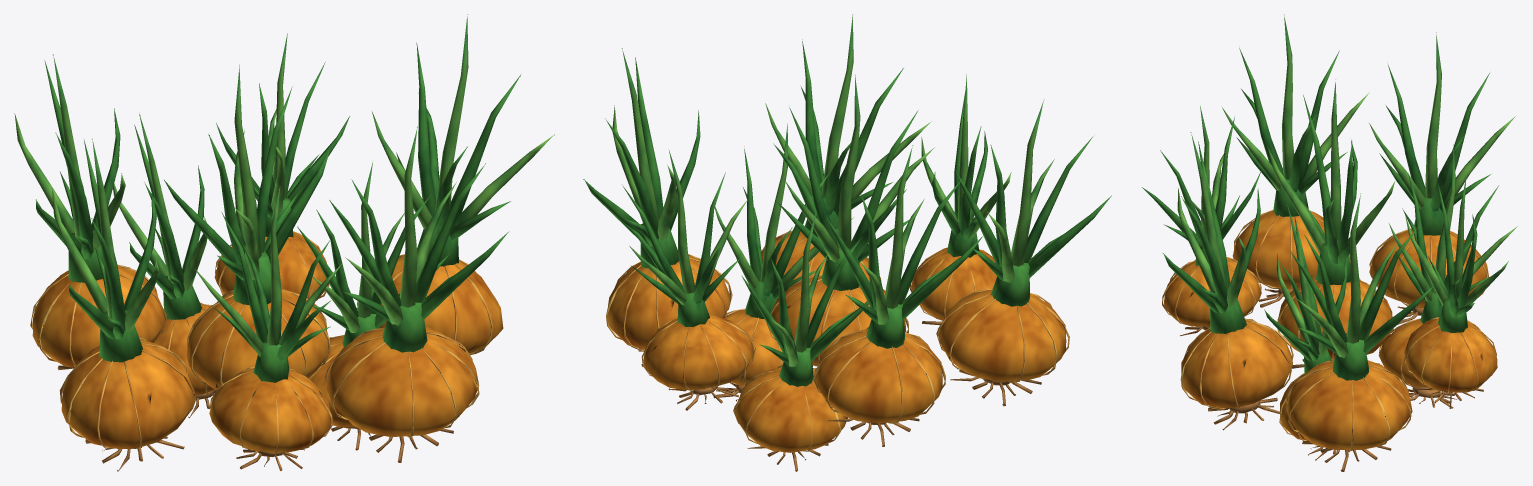
The model's file is onion_stage_2.glb.
3 views of the same model, side by side, from view 1: azimuth 30°, elevation 25°; view 2: azimuth 150°, elevation 25°; view 3: azimuth 270°, elevation 25° (orthographic). The views are drawn at different scales.
Visible parts, largest first — view 1: onion_stage_2; view 2: onion_stage_2; view 3: onion_stage_2.
Part boxes in pixels (x1=…): onion_stage_2: x1=14, y1=14, x2=554, y2=471; onion_stage_2: x1=583, y1=14, x2=1111, y2=471; onion_stage_2: x1=1142, y1=14, x2=1517, y2=471.
Size of what is drawn, in the model's own units: 1.6 by 1.16 by 1.22.
1 material, 1 textured.
